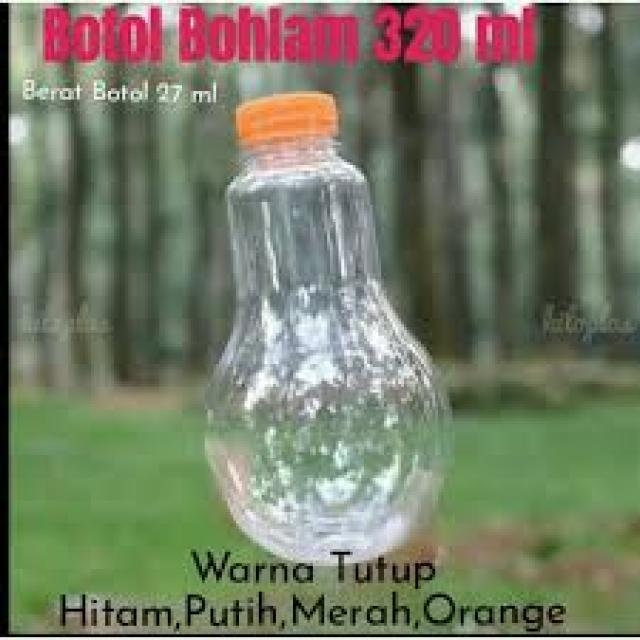good: (186, 84, 502, 600)
